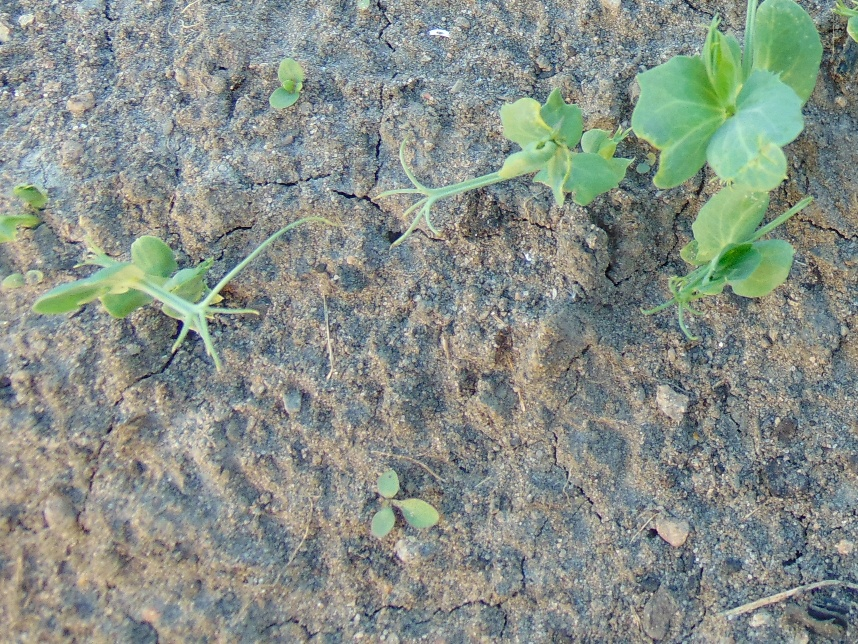crop: (615, 1, 826, 343), (390, 82, 633, 238), (39, 221, 247, 364), (828, 1, 858, 48)
weed: (368, 467, 440, 539), (268, 55, 310, 111)
